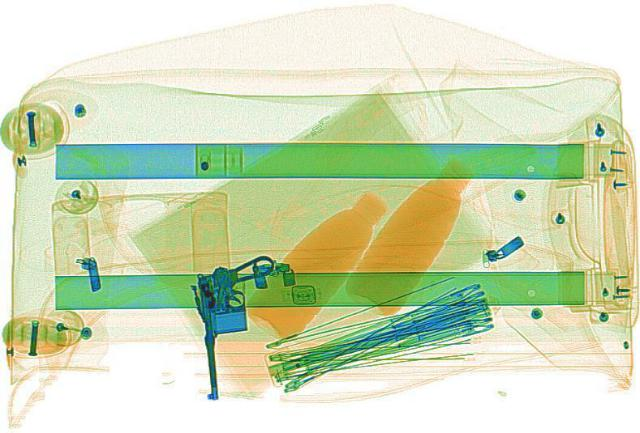Gun: (185, 253, 289, 399)
